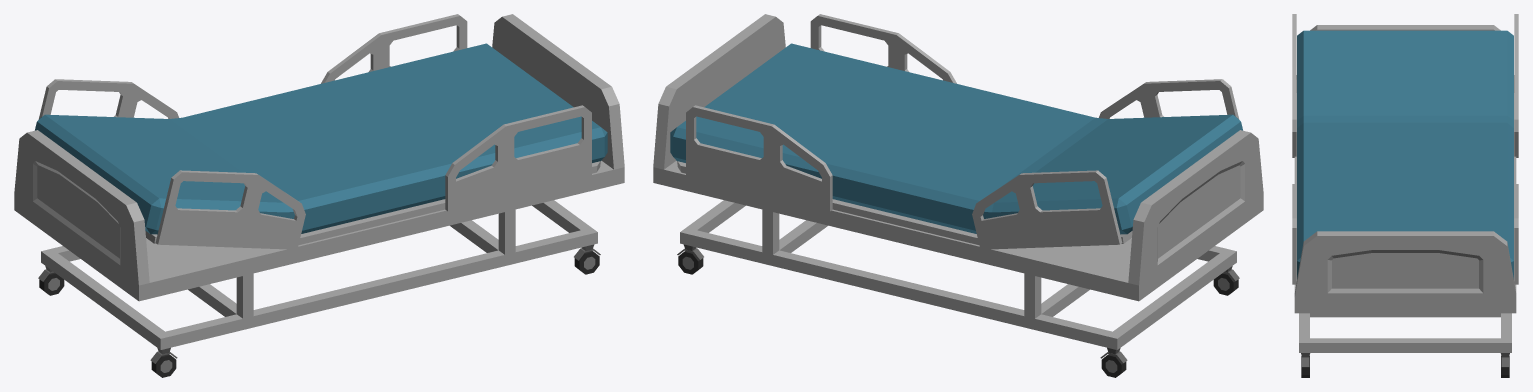
The model's file is SM_Props_Interior_Generic_Hospital_Bed.fbx.
The picture shows the model from 3 angles, left to right: view 1: azimuth 30°, elevation 25°; view 2: azimuth 150°, elevation 25°; view 3: azimuth 270°, elevation 25°; orthographic projection. The views are drawn at different scales.
Parts seen in each view (by area): view 1: SM_Props_Interior_Generic_Hospital_Bed; view 2: SM_Props_Interior_Generic_Hospital_Bed; view 3: SM_Props_Interior_Generic_Hospital_Bed.
Part boxes in pixels (x1,y1,x2,y2): SM_Props_Interior_Generic_Hospital_Bed: (14, 14, 624, 377); SM_Props_Interior_Generic_Hospital_Bed: (653, 14, 1263, 377); SM_Props_Interior_Generic_Hospital_Bed: (1292, 14, 1518, 377).
Size of the model in its own units: 225 by 91.03 by 102.
